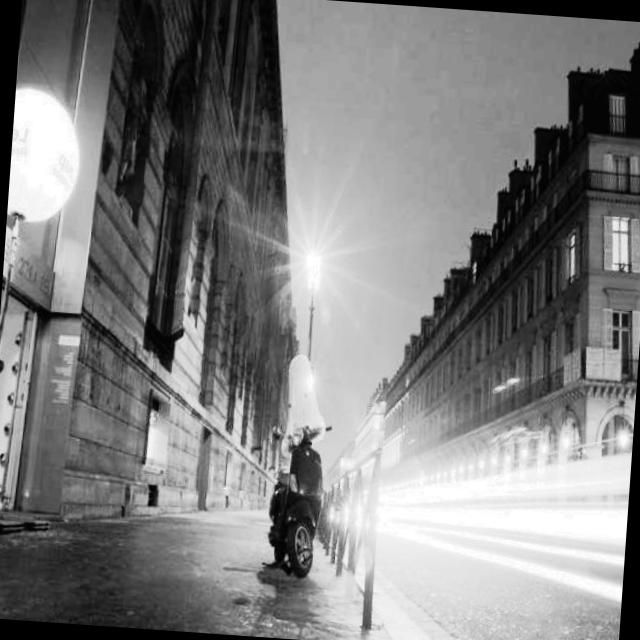Motorcycle: (246, 342, 352, 596)
